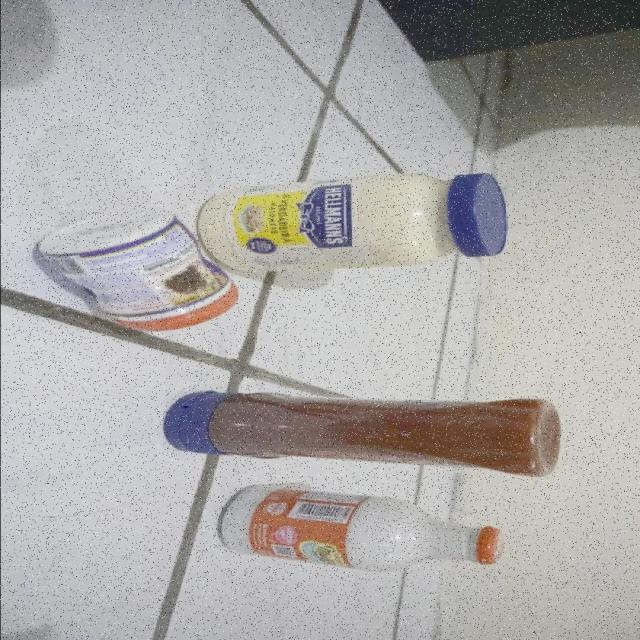CoconutMilk: (213, 486, 514, 581)
Ketchup: (159, 392, 563, 477)
Mayonnaise: (213, 168, 511, 268)
Yeast: (39, 209, 231, 346)
